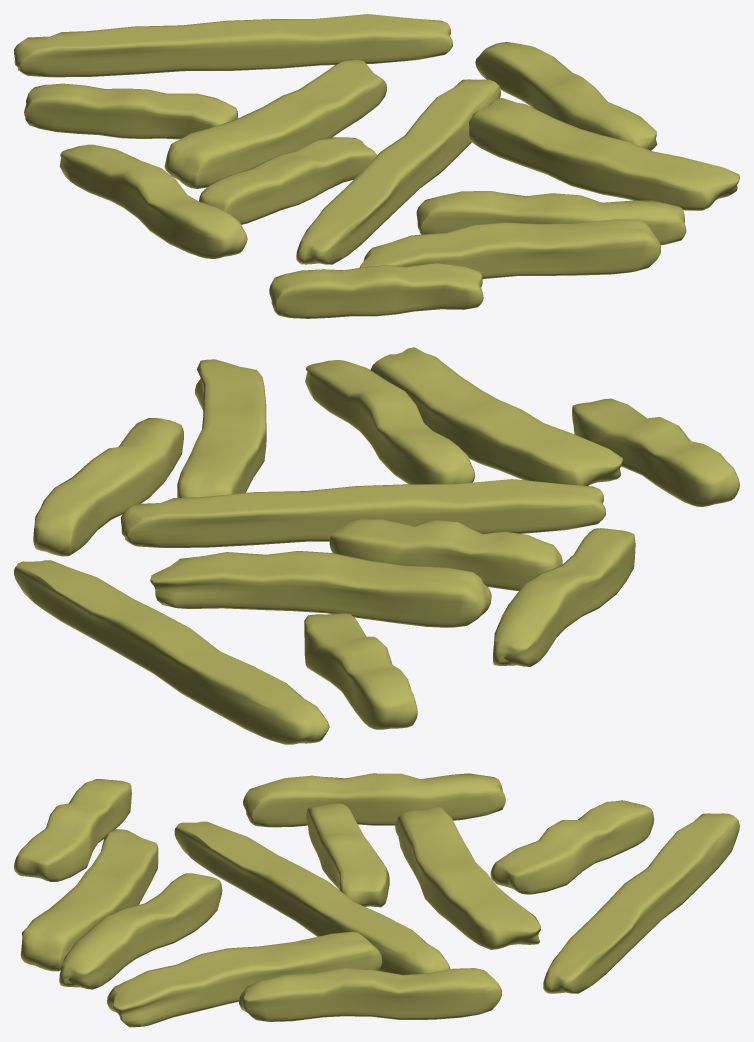
The model's file is Chips.fbx.
The picture shows the model from 3 angles, top to bottom: view 1: azimuth 30°, elevation 25°; view 2: azimuth 150°, elevation 25°; view 3: azimuth 270°, elevation 25°; orthographic projection. The views are drawn at different scales.
Visible parts, largest first — view 1: Chips; view 2: Chips; view 3: Chips.
Boxes of the visible parts, box(x1,y1,x2,y2) form: Chips: box(14, 14, 739, 318); Chips: box(14, 347, 739, 744); Chips: box(14, 773, 739, 1027).
Bounding box in the file's own units: 64.21 × 6.35 × 85.1.
